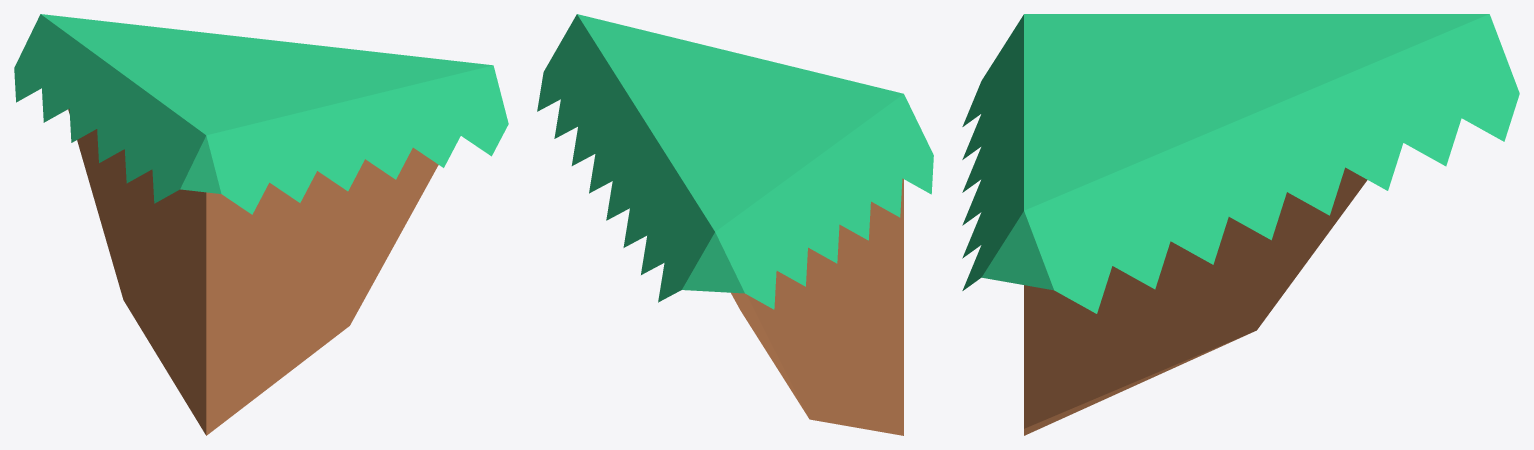
Rendered from blockCliffCorner.glb.
The picture shows the model from 3 angles, left to right: view 1: azimuth 30°, elevation 25°; view 2: azimuth 150°, elevation 25°; view 3: azimuth 270°, elevation 25°; orthographic projection. The views are drawn at different scales.
Parts seen in each view (by area): view 1: blockCliffCorner; view 2: blockCliffCorner; view 3: blockCliffCorner.
Boxes of the visible parts, box(x1,y1,x2,y2) form: blockCliffCorner: box(14, 14, 508, 435); blockCliffCorner: box(537, 14, 933, 435); blockCliffCorner: box(962, 14, 1519, 435).
Size of the model in its own units: 1.2 by 1 by 1.2.
